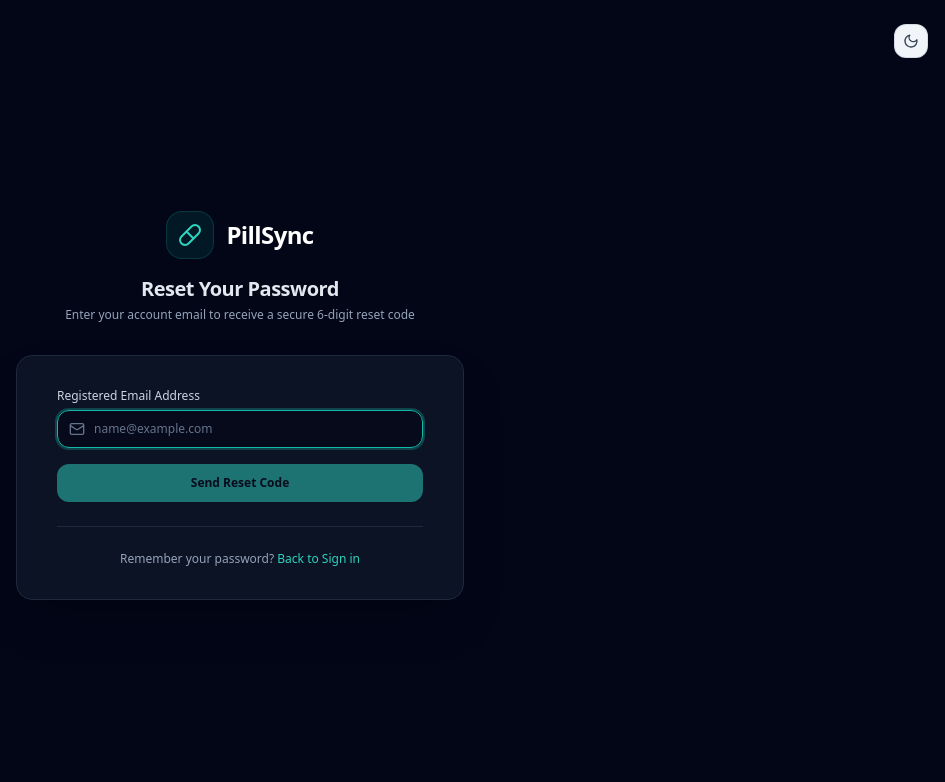
Scenario: ForgotPassword Component - Email OTP Password Reset › submits valid OTP and new password, completing reset flow
Note: Send OTP
In the field labelled "Registered Email Address": (240, 428) [57, 410, 423, 448], type "user@example.com"
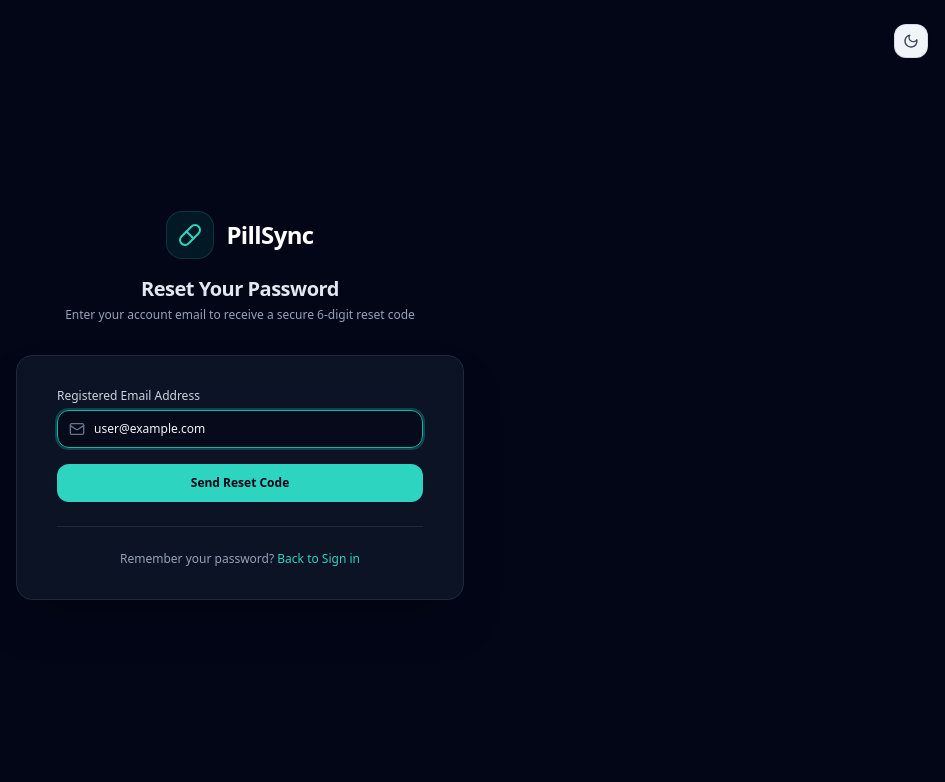
Click the button "Send Reset Code": (240, 482) [57, 464, 423, 502]
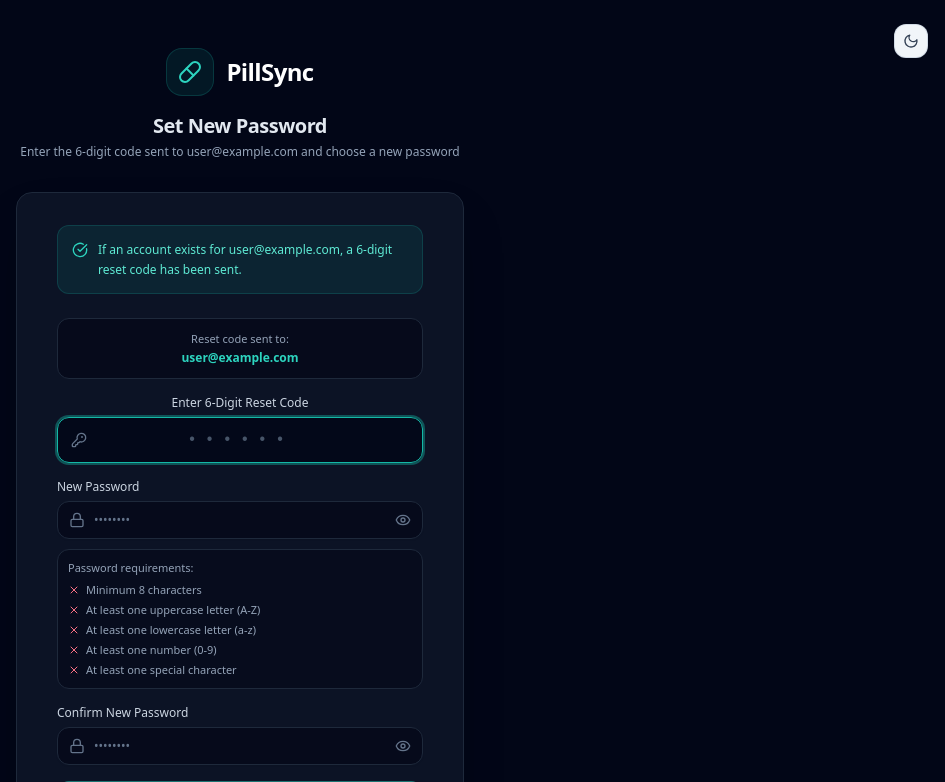
Result: the field labelled "Enter 6-Digit Reset Code" is shown
Note: Reset password
In the field labelled "Enter 6-Digit Reset Code": (240, 440) [57, 416, 423, 462], type "123456"
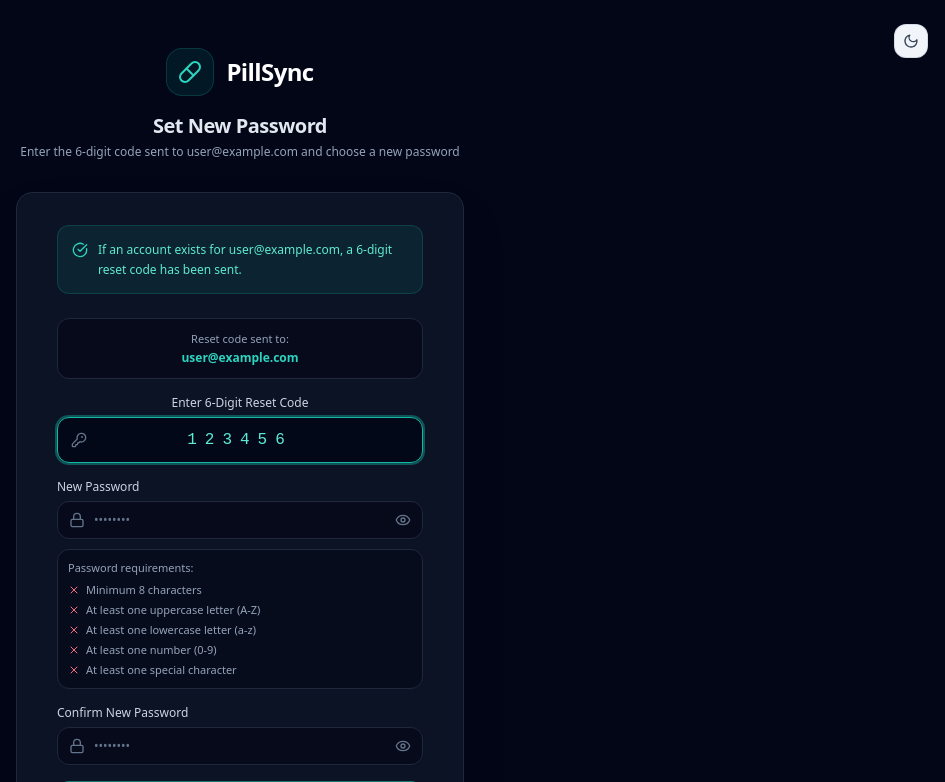
In the password field labelled "New Password": (240, 520) [57, 500, 423, 538], type "BrandNewPass123!"
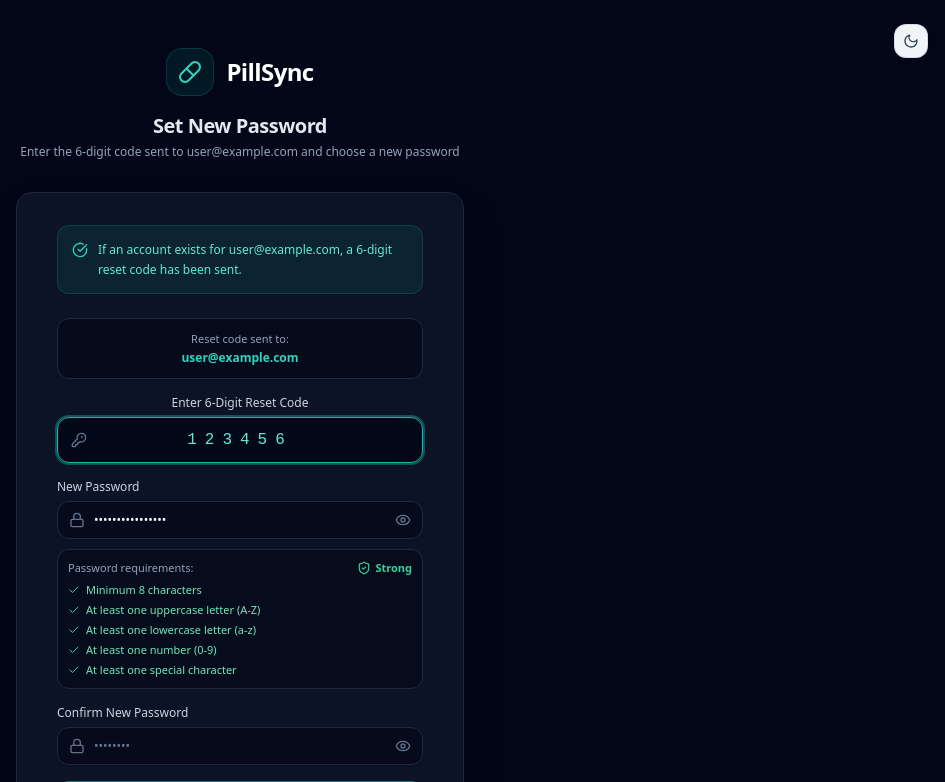
In the password field labelled "Confirm New Password": (240, 746) [57, 727, 423, 765], type "BrandNewPass123!"
(page scrolled)
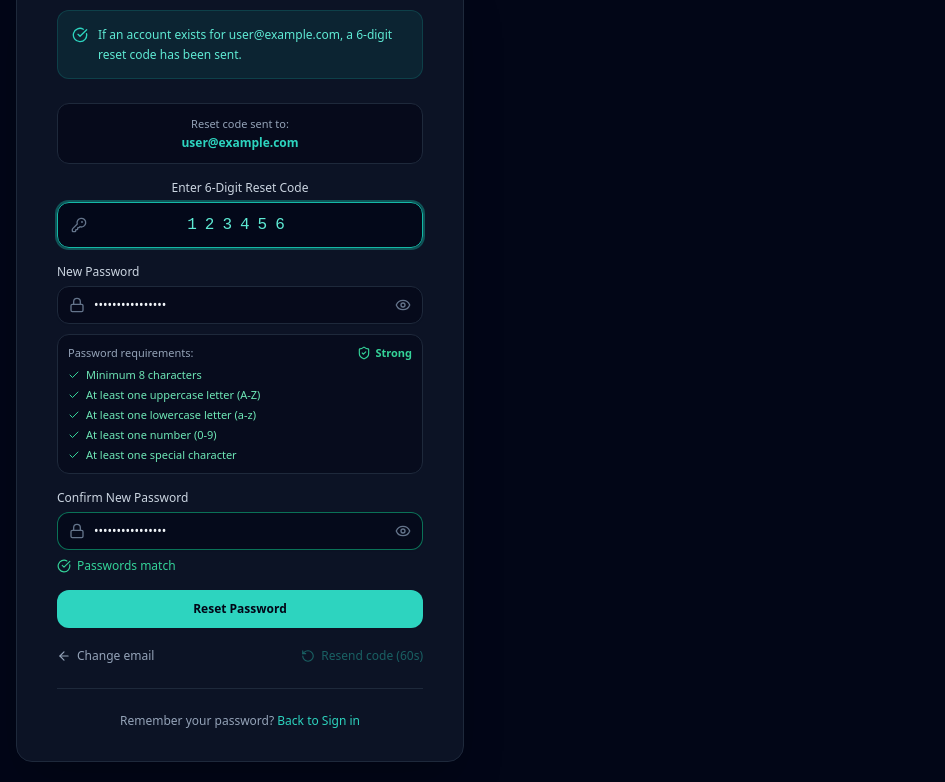
Click the button "Reset Password": (240, 609) [57, 590, 423, 628]
(page scrolled)
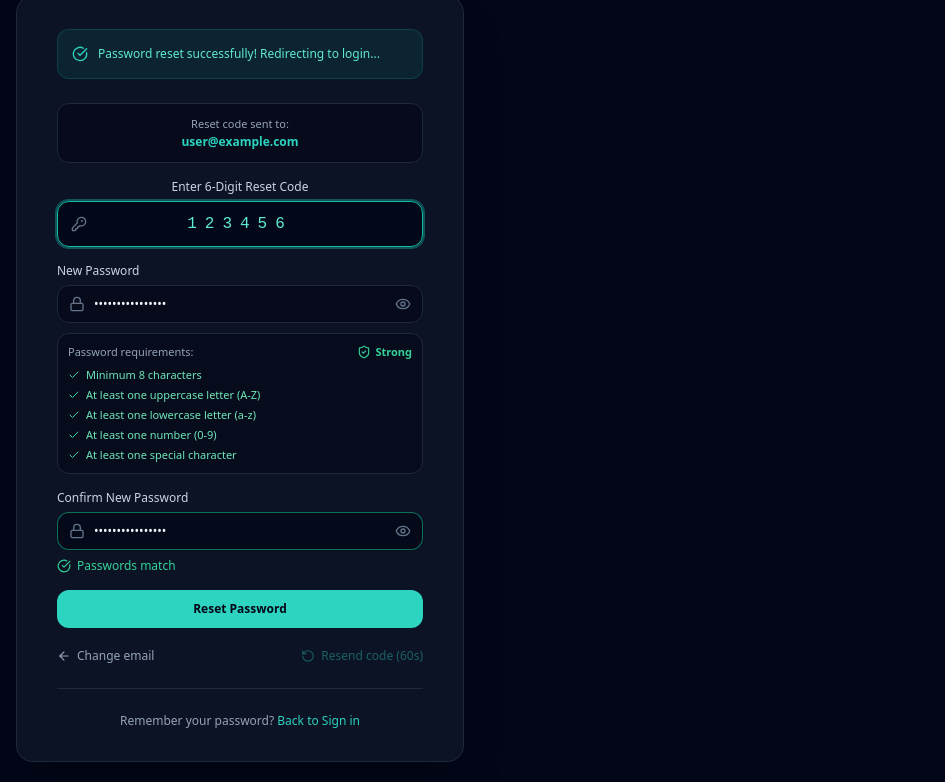
Result: the message shows "Password reset successfully" at [98, 45, 380, 62]
